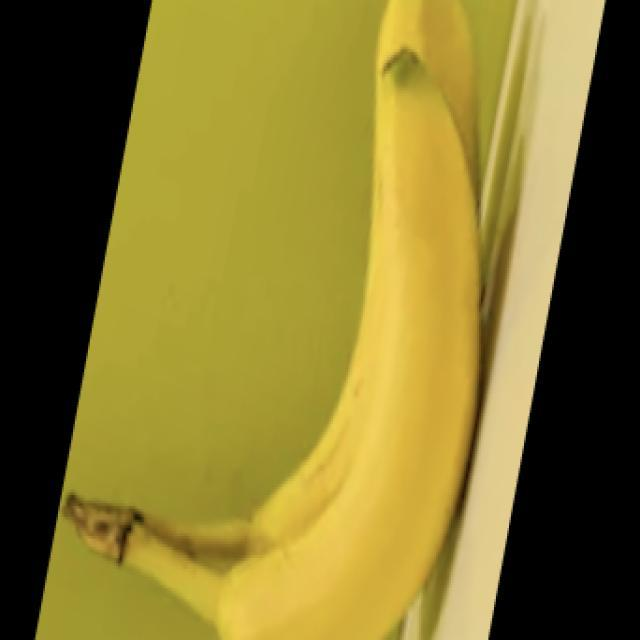Banana: (60, 0, 485, 639)
